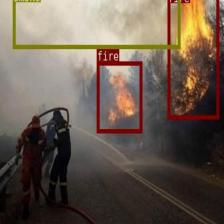fire: (166, 0, 218, 118), (96, 60, 142, 132)
smoke: (12, 0, 180, 48)
